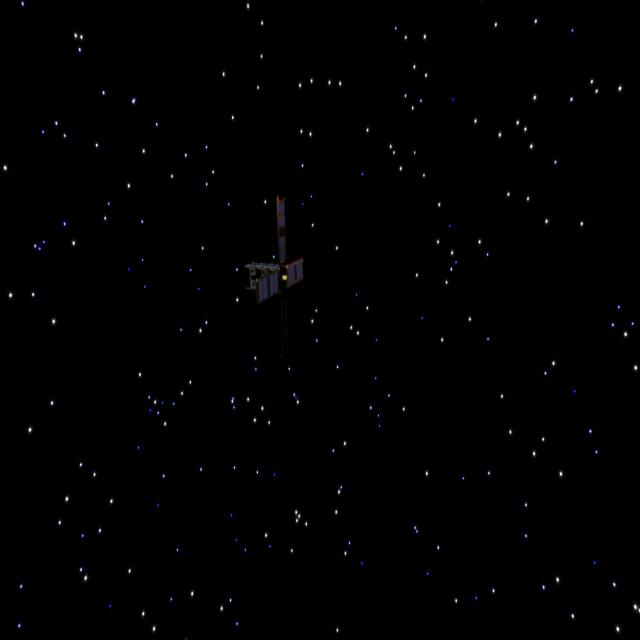medium_debris: (230, 192, 309, 318)
